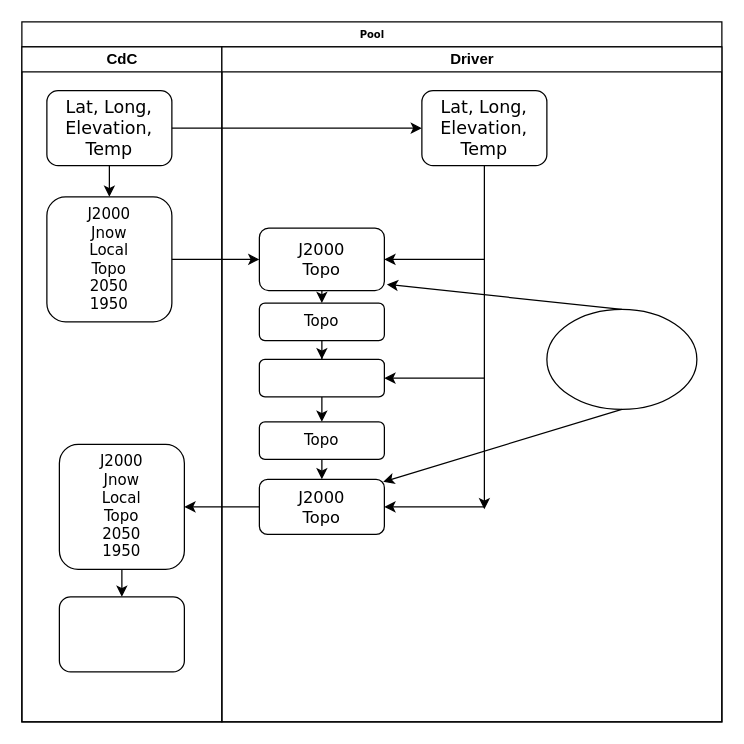
The diagram is 744 pixels wide and 744 high, and some of its shapes have lost their labels. The shapes that lost their labels are listed below. From the top down, each one's centre as x and y in pixels, then its label:
At (321,377): "Move Mount".
At (621,358): "Set to Accept Local Conversion Spots".
At (121,634): "Display".
